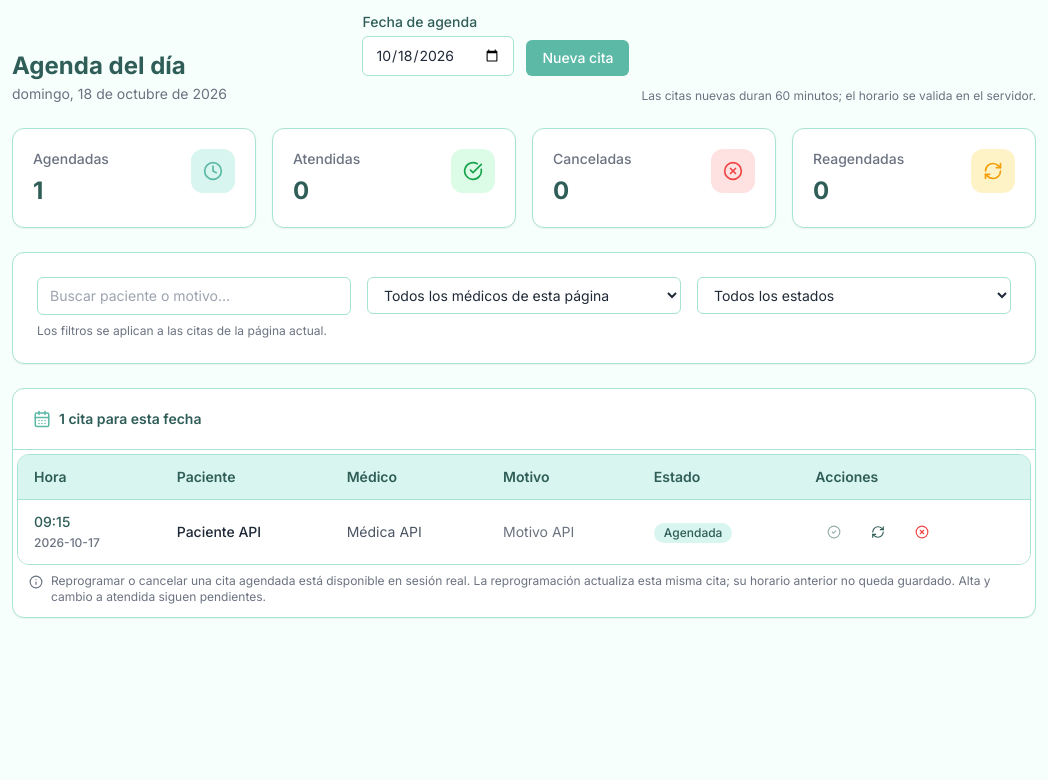
Test: AgendaPage de recepción › cancela una cita real con confirmación y vuelve a cargar la agenda
Click the button named "Cancelar cita: Paciente API". click: (922, 532)
box: [903,519,941,545]
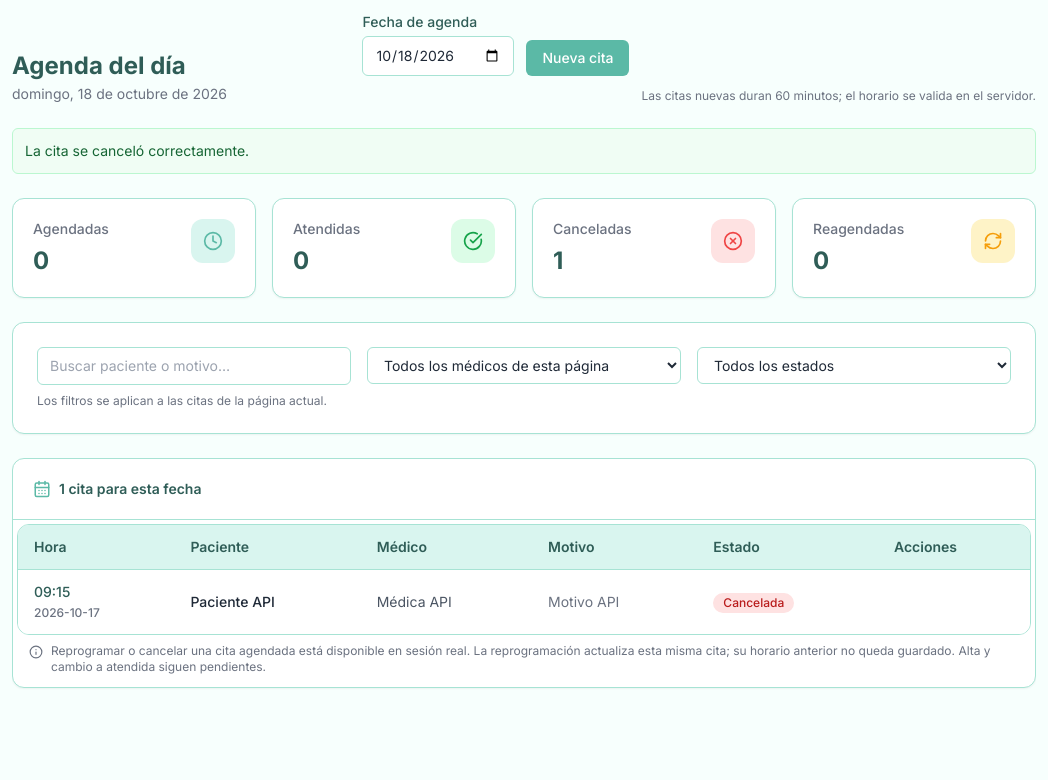
Expected: the text "La cita se canceló correctamente." is shown, [12,128,1036,174]
Expected: the row "Paciente API" shows "Cancelada", [723,594,784,610]
